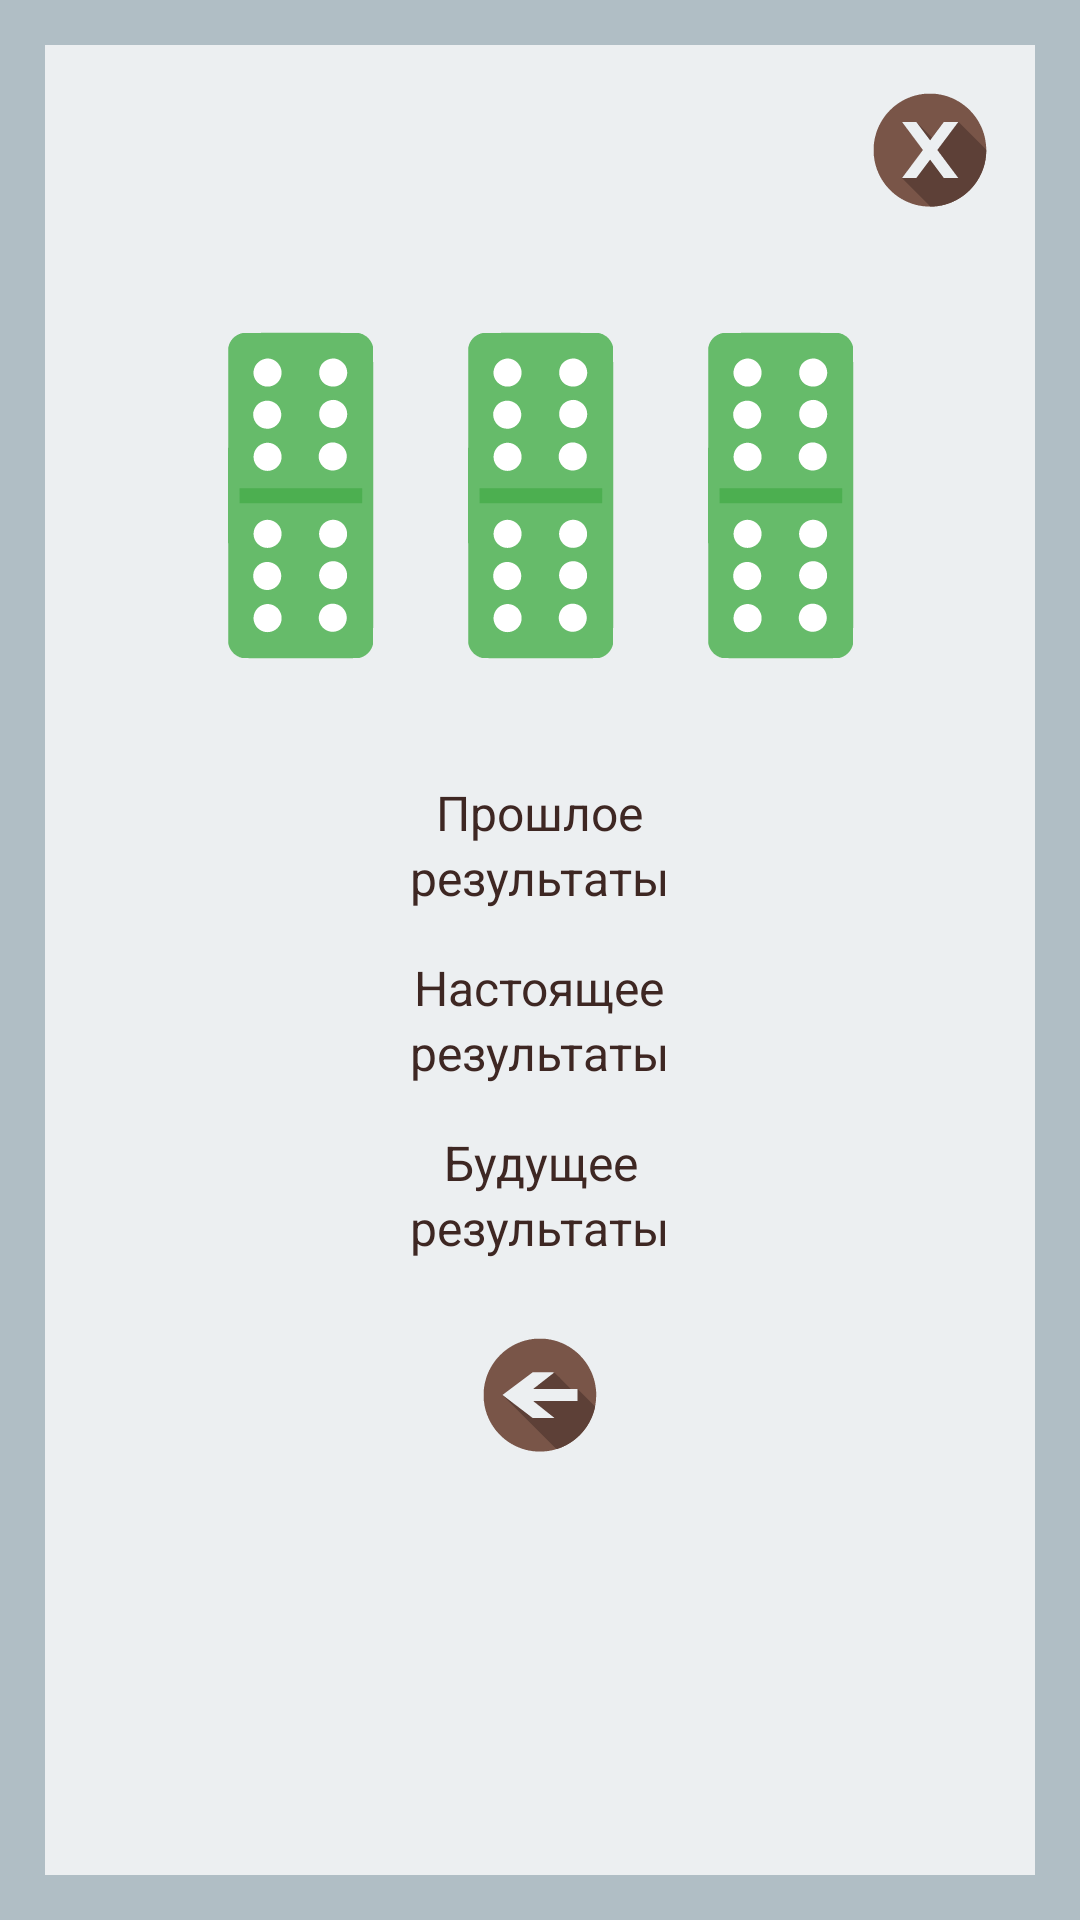

Locate icon controls on the screen. Image size 1080 × 1920, boxes as [left=x1, top=y1, right=x2, bottom=y2].
domino: [left=228, top=332, right=374, bottom=659], [left=468, top=332, right=614, bottom=659], [left=708, top=332, right=854, bottom=659]
